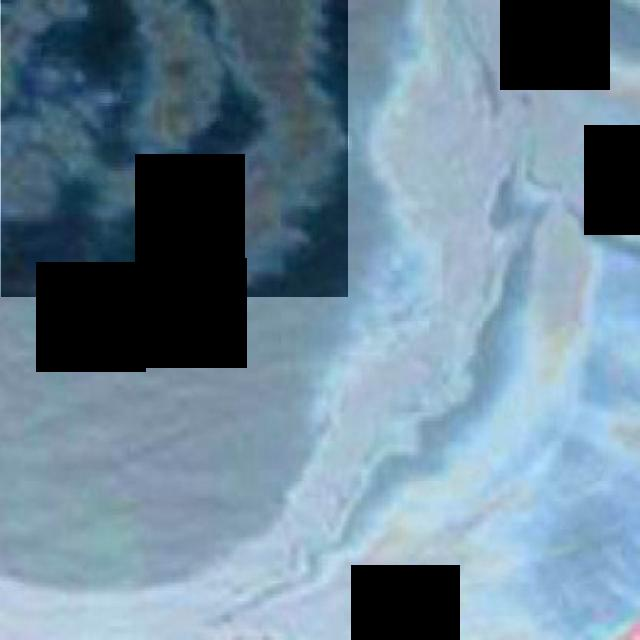oil spill: (0, 4, 639, 640), (1, 0, 348, 297)
